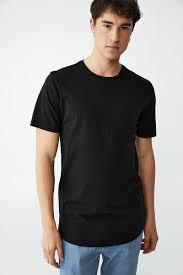Tshirt: (30, 60, 159, 249)
